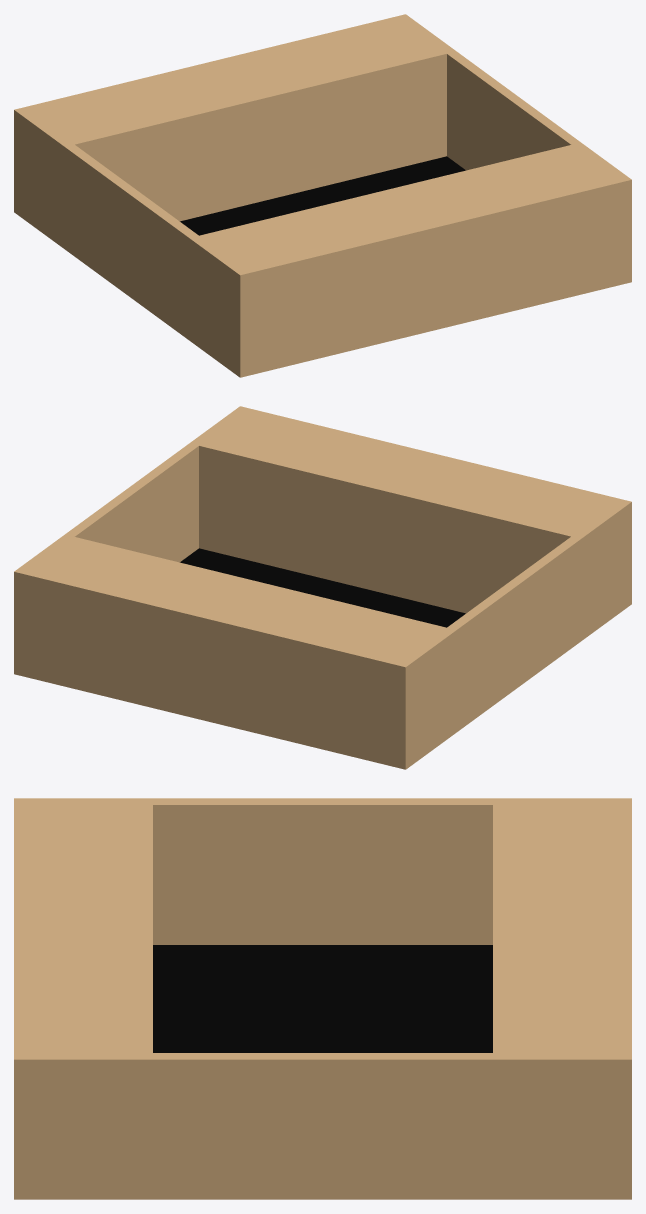
The model's file is rectangle_mold_black.gltf.
The picture shows the model from 3 angles, top to bottom: view 1: azimuth 30°, elevation 25°; view 2: azimuth 150°, elevation 25°; view 3: azimuth 270°, elevation 25°; orthographic projection. The views are drawn at different scales.
Parts seen in each view (by area): view 1: Mold, Base; view 2: Mold, Base; view 3: Mold, Base.
Part boxes in pixels (bbox=[...]): Mold: bbox=[14, 14, 631, 377]; Base: bbox=[180, 156, 465, 235]; Mold: bbox=[14, 406, 631, 769]; Base: bbox=[180, 548, 465, 627]; Mold: bbox=[14, 798, 631, 1199]; Base: bbox=[153, 945, 492, 1052].
Size of the model in its own units: 0.2 by 0.05 by 0.2.
